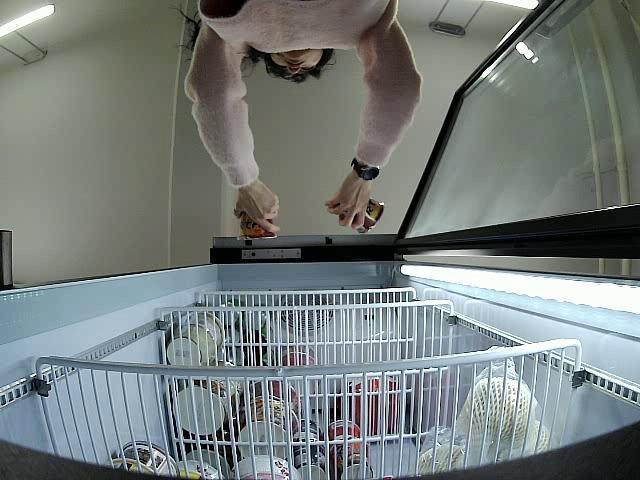06_nuguri_S: (337, 196, 386, 236), (233, 210, 278, 244)
